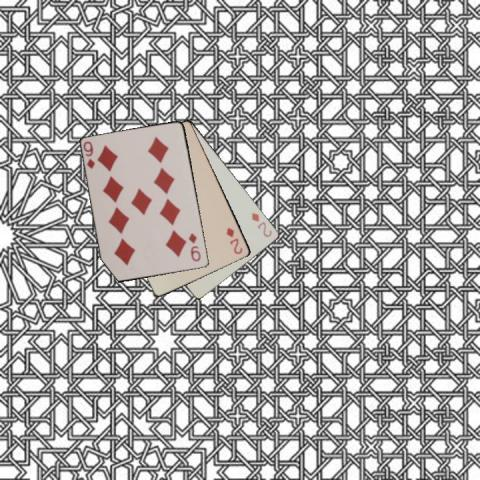2d: (249, 210, 273, 239), (223, 225, 244, 256)
9d: (186, 230, 202, 263), (81, 138, 96, 170)
